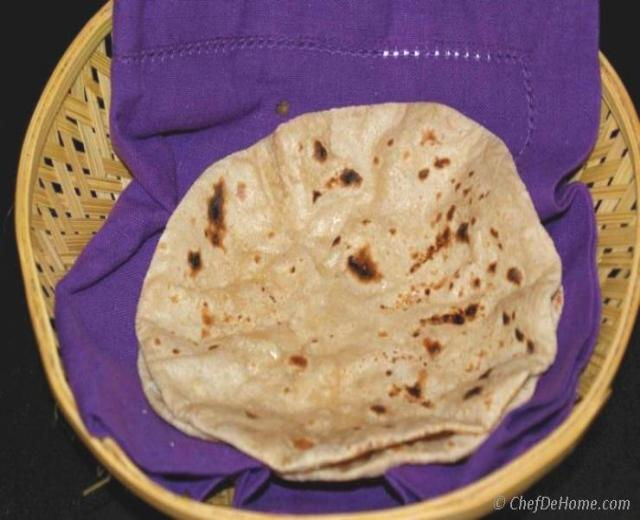chapati: (135, 104, 562, 479)
